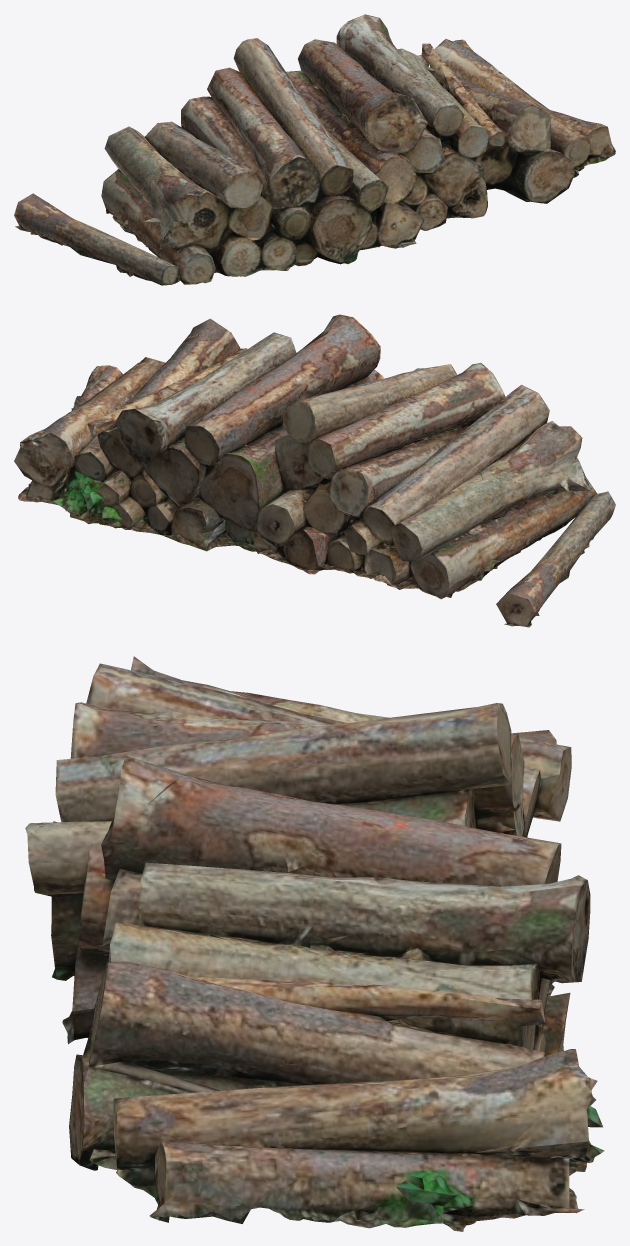
Rendered from logs78.glb.
3 views of the same model, one above another, from view 1: azimuth 30°, elevation 25°; view 2: azimuth 150°, elevation 25°; view 3: azimuth 270°, elevation 25° (orthographic). The views are drawn at different scales.
Parts seen in each view (by area): view 1: Log Pile; view 2: Log Pile; view 3: Log Pile.
Part boxes in pixels (x1=…): Log Pile: x1=14, y1=14, x2=615, y2=285; Log Pile: x1=14, y1=314, x2=615, y2=627; Log Pile: x1=25, y1=656, x2=604, y2=1231.
Size of the model in its own units: 2.63 by 0.722 by 1.3.
1 material, 1 textured.
